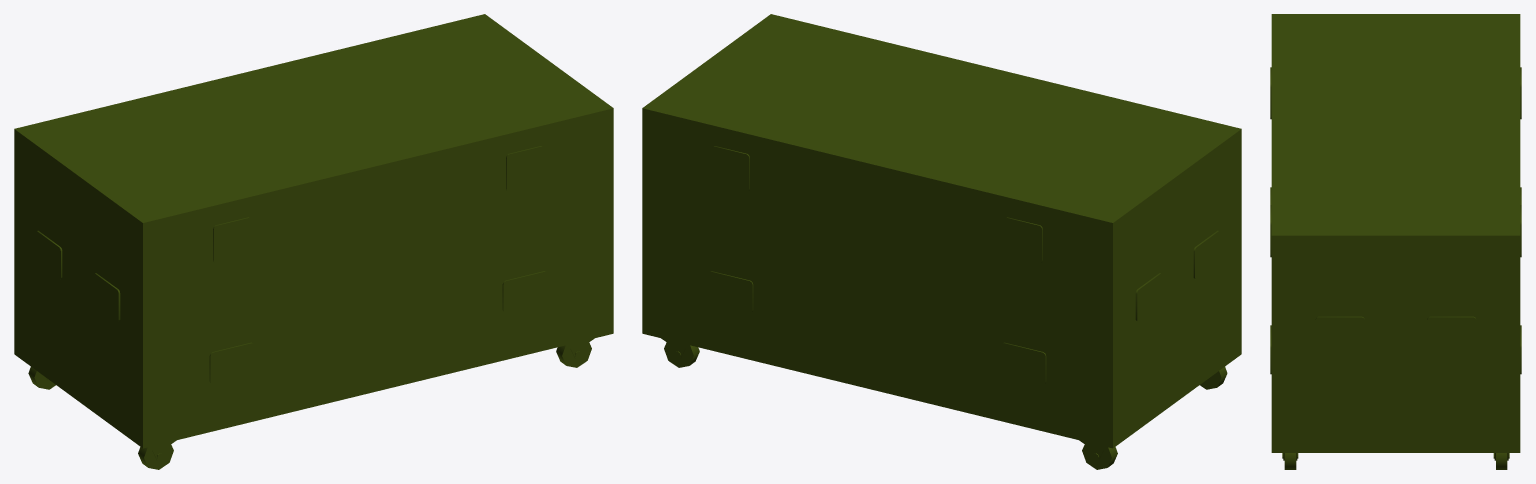
The model's file is FlightCase01_M.fbx.
3 renders of one model, left to right at view 1: azimuth 30°, elevation 25°; view 2: azimuth 150°, elevation 25°; view 3: azimuth 270°, elevation 25°, orthographic. The views are drawn at different scales.
Visible parts, largest first — view 1: FlightCase01, FlightCase01_Wheel_1, FlightCase01_Wheel_3; view 2: FlightCase01, FlightCase01_Wheel_2, FlightCase01_Wheel_4; view 3: FlightCase01.
Boxes of the visible parts, box(x1,y1,x2,y2) form: FlightCase01: box(14, 14, 613, 448); FlightCase01_Wheel_1: box(138, 440, 176, 469); FlightCase01_Wheel_3: box(556, 338, 594, 367); FlightCase01: box(642, 14, 1241, 448); FlightCase01_Wheel_2: box(1079, 440, 1117, 469); FlightCase01_Wheel_4: box(661, 338, 699, 367); FlightCase01: box(1270, 14, 1521, 452).
Bounding box in the file's own units: 1.01 × 0.5222 × 0.4789.
